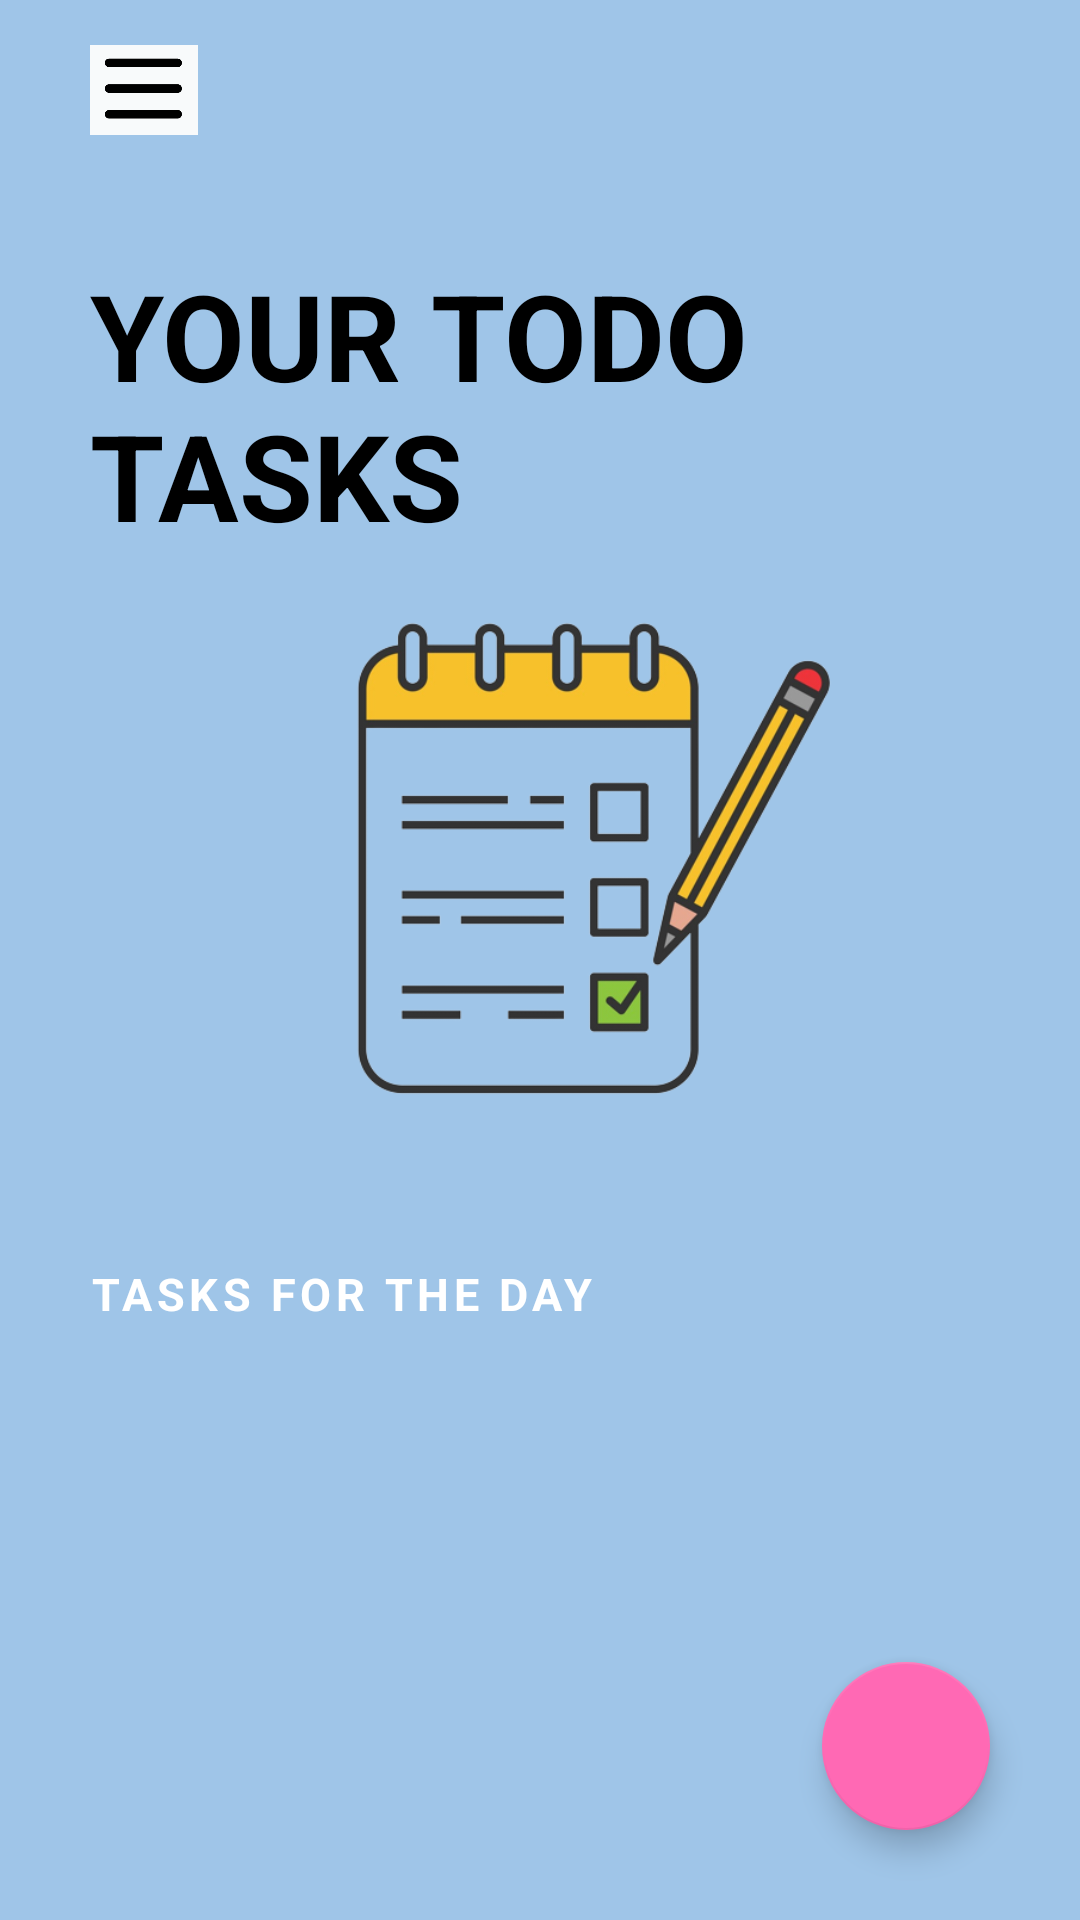

Icon click points for this 1080×1920 phone screenshot, format (x,y):
Opens Navigation: (144,90)
